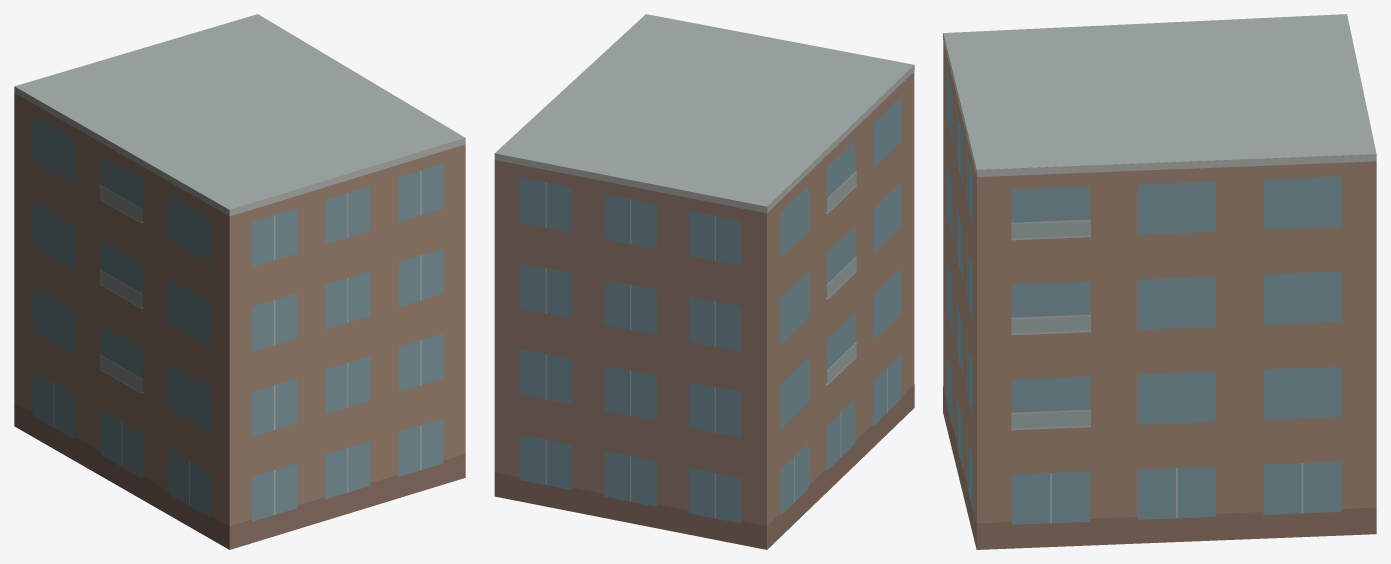
Rendered from survey-upis-32649832.glb.
The picture shows the model from 3 angles, left to right: view 1: azimuth 30°, elevation 25°; view 2: azimuth 150°, elevation 25°; view 3: azimuth 270°, elevation 25°; orthographic projection. The views are drawn at different scales.
Parts seen in each view (by area): view 1: survey-upis-32649832.tmp; view 2: survey-upis-32649832.tmp; view 3: survey-upis-32649832.tmp.
Part boxes in pixels (left/top/right/bottom): survey-upis-32649832.tmp: left=14, top=14, right=465, bottom=549; survey-upis-32649832.tmp: left=494, top=14, right=914, bottom=549; survey-upis-32649832.tmp: left=943, top=14, right=1376, bottom=549.
Bounding box in the file's own units: 11.27 × 12.8 × 13.24.
